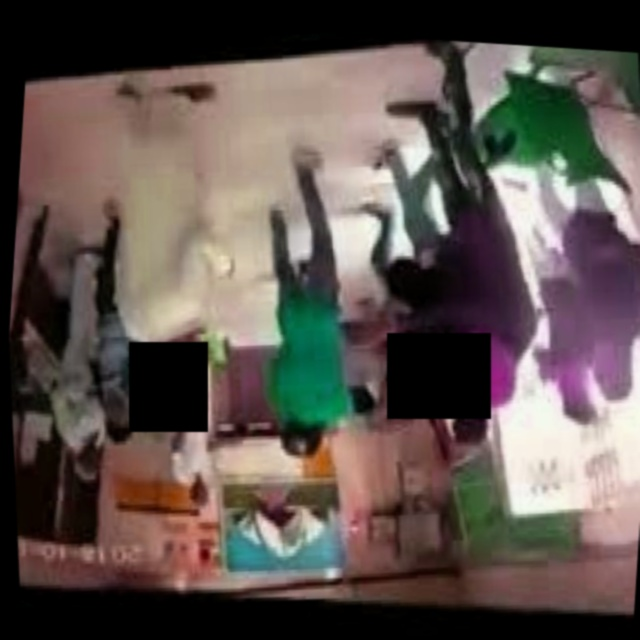gun: (342, 306, 405, 359)
